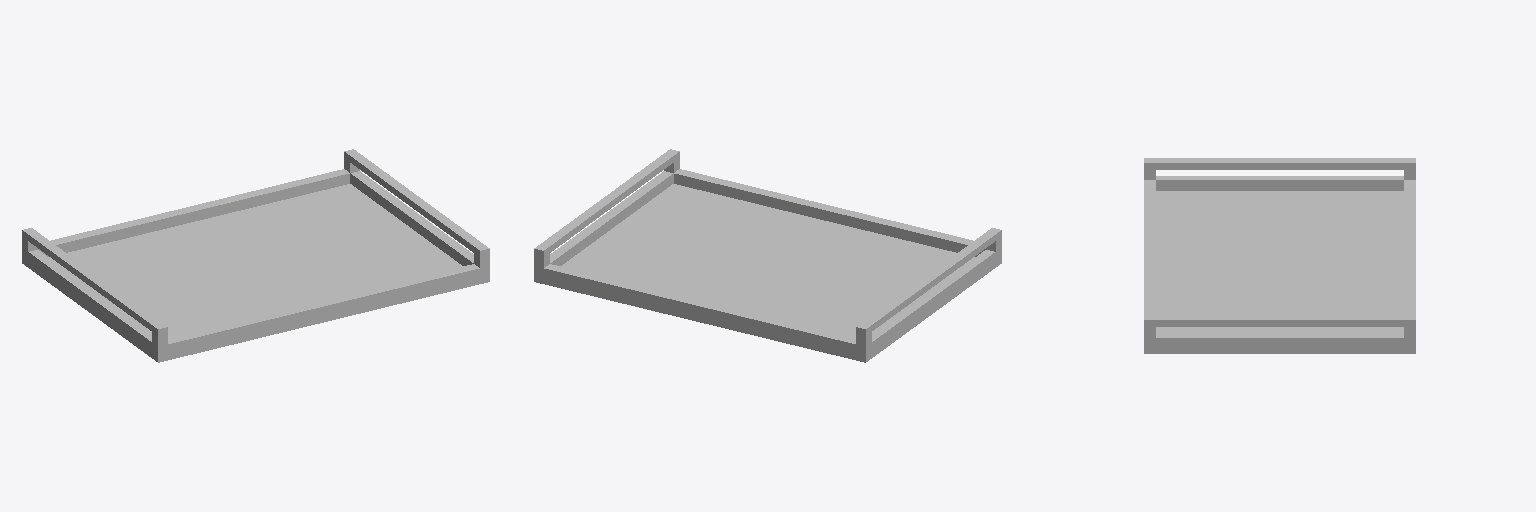
File: поднос.obj
The picture shows the model from 3 angles: view 1: azimuth 30°, elevation 25°; view 2: azimuth 150°, elevation 25°; view 3: azimuth 270°, elevation 25°; orthographic projection.
Visible parts, largest first — view 1: Box001; view 2: Box001; view 3: Box001.
Boxes of the visible parts, x1,y1,x2,y2 form: Box001: [22, 149, 489, 362]; Box001: [534, 149, 1001, 362]; Box001: [1144, 158, 1415, 353].
Size of the model in its own units: 99.73 by 9.59 by 70.8.